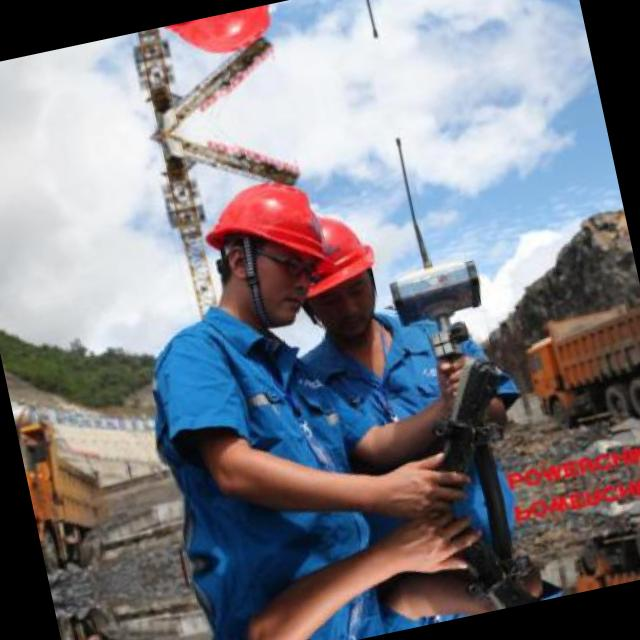helmet: (184, 156, 356, 348), (286, 196, 399, 342), (150, 0, 300, 82)
